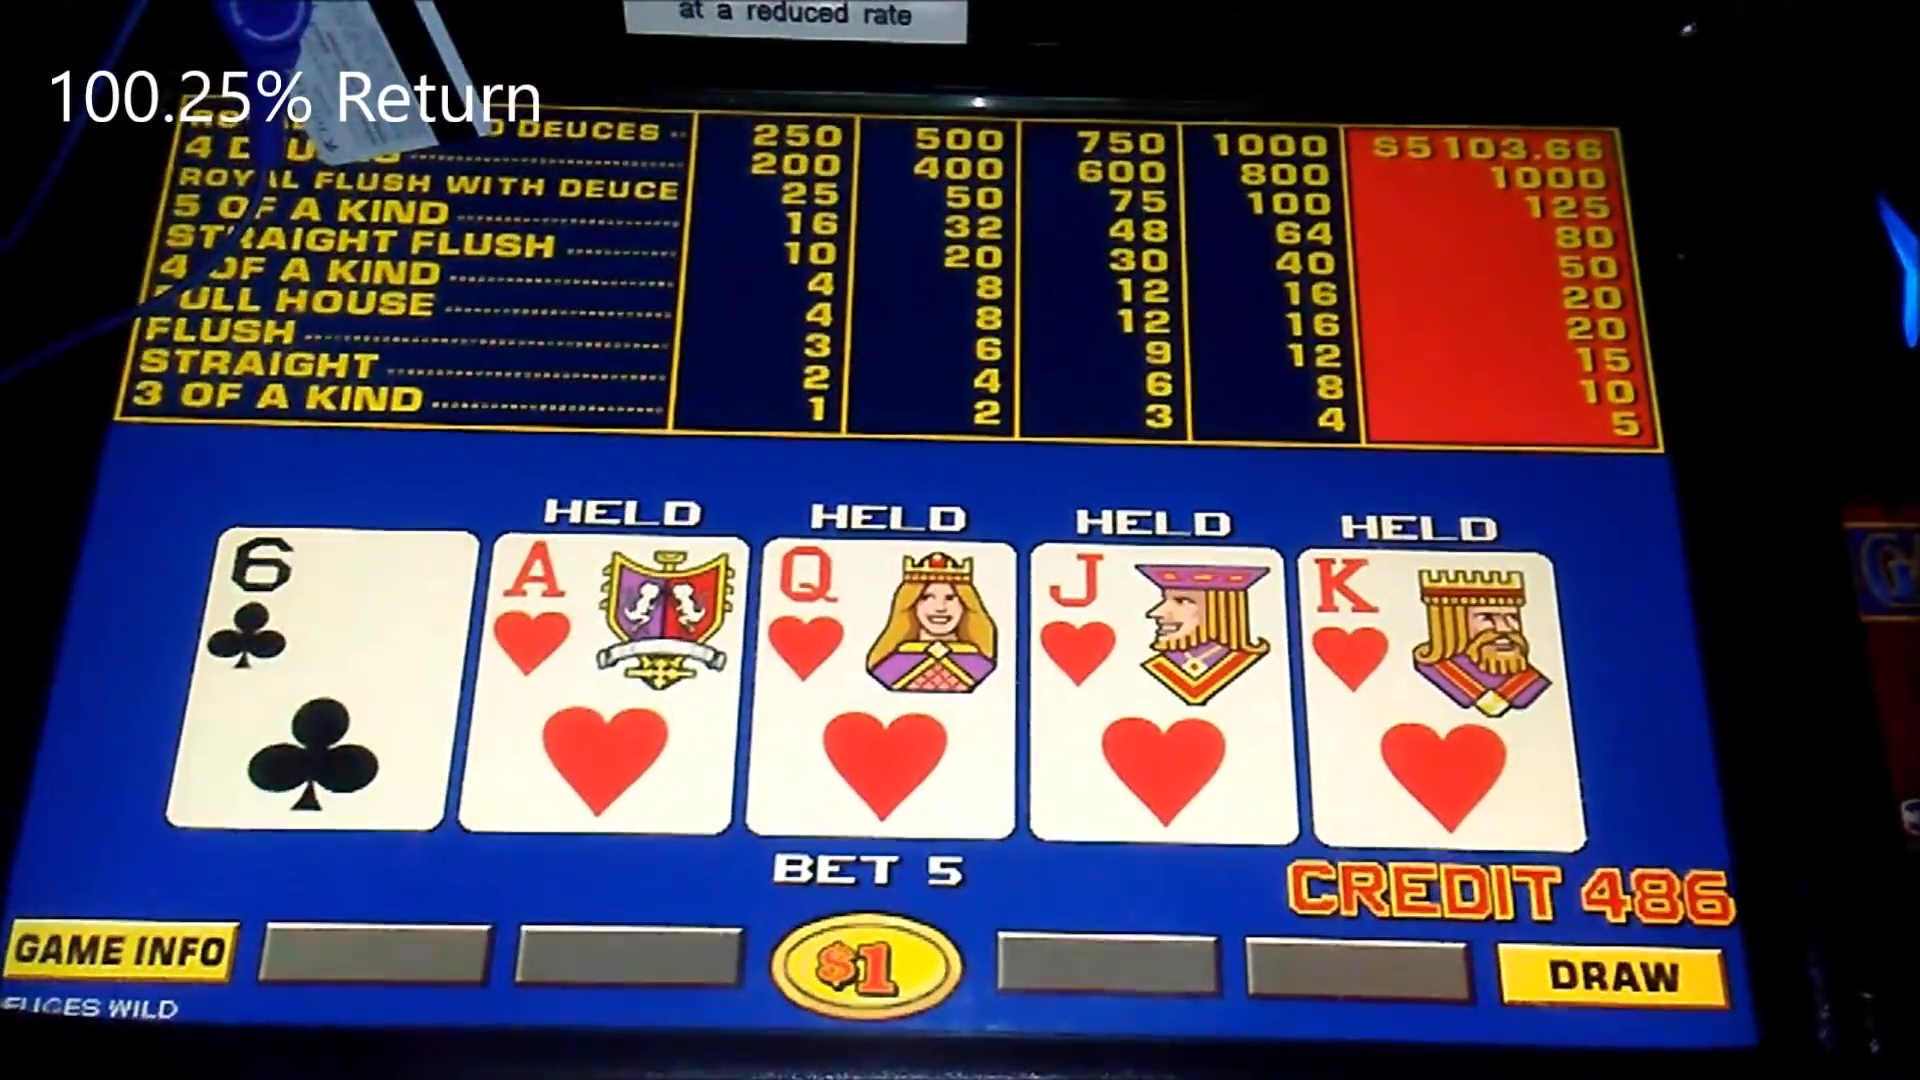6c: (208, 527, 458, 676)
ah: (497, 535, 748, 683)
jh: (1036, 551, 1284, 696)
kh: (1303, 556, 1560, 702)
qh: (760, 547, 1017, 686)
